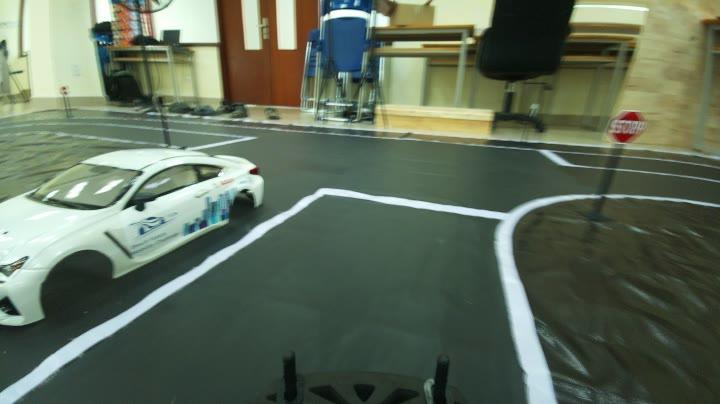car: (0, 154, 255, 338)
stop: (610, 111, 646, 146)
